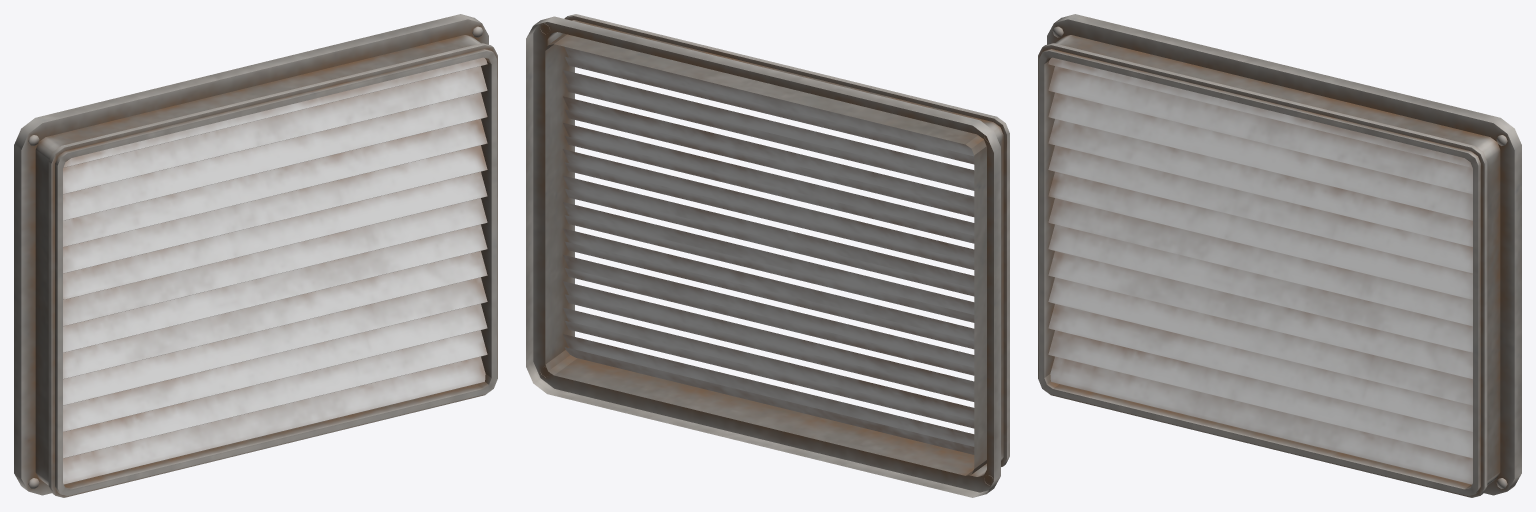
Rendered from vent_01.glb.
3 renders of one model, left to right at view 1: azimuth 30°, elevation 25°; view 2: azimuth 150°, elevation 25°; view 3: azimuth 330°, elevation 25°, orthographic.
Visible parts, largest first — view 1: modular_airduct_rectangular_01_vent_01.001; view 2: modular_airduct_rectangular_01_vent_01.001; view 3: modular_airduct_rectangular_01_vent_01.001.
Boxes of the visible parts, bbox=[...] form: modular_airduct_rectangular_01_vent_01.001: bbox=[14, 14, 497, 497]; modular_airduct_rectangular_01_vent_01.001: bbox=[526, 14, 1009, 497]; modular_airduct_rectangular_01_vent_01.001: bbox=[1038, 14, 1521, 497].
Size of the model in its own units: 0.5521 by 0.42 by 0.0603.
Materials: 1 (1 with a texture image).
